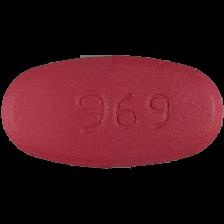0093-7169: (0, 0, 224, 224)
